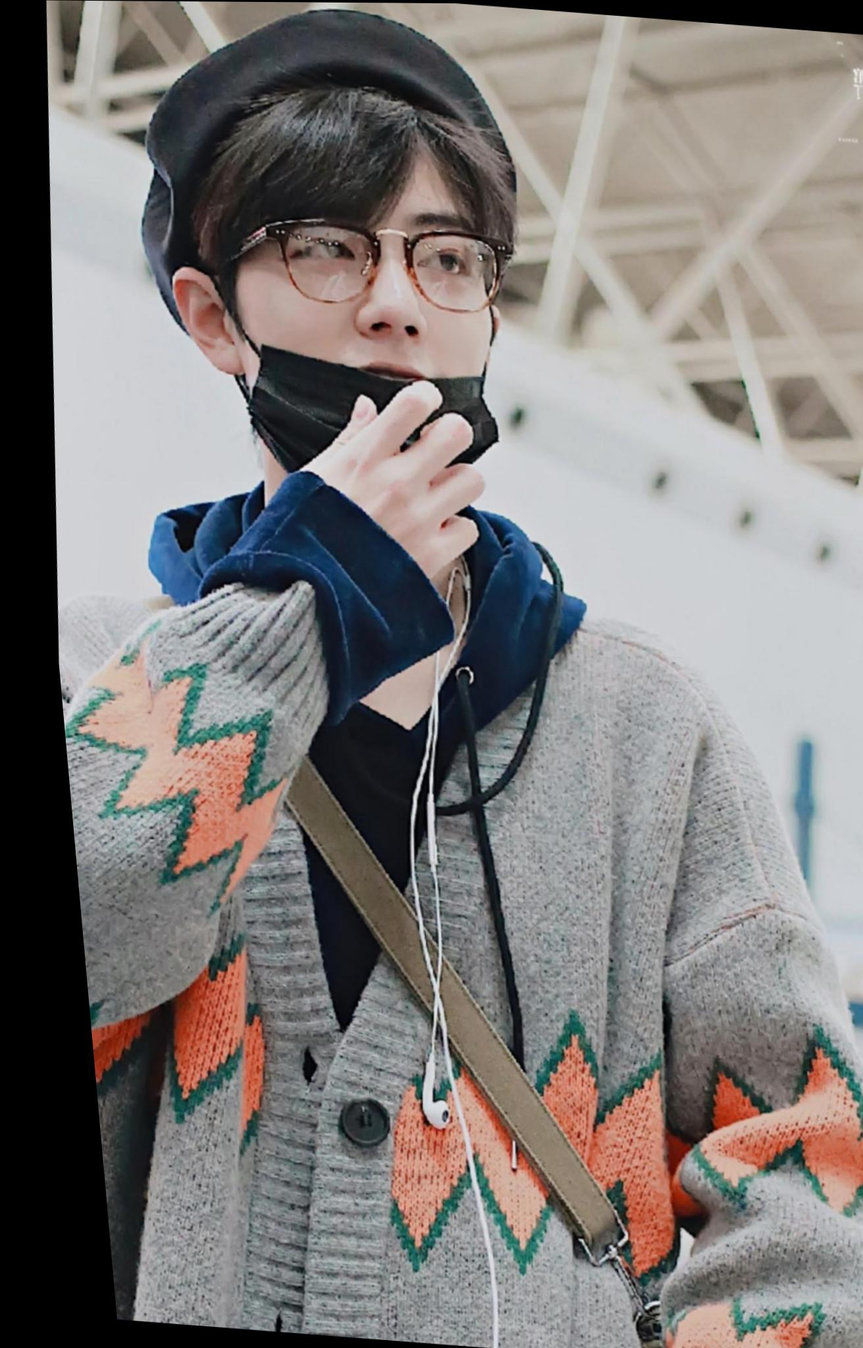WRONG: (212, 173, 512, 509)
